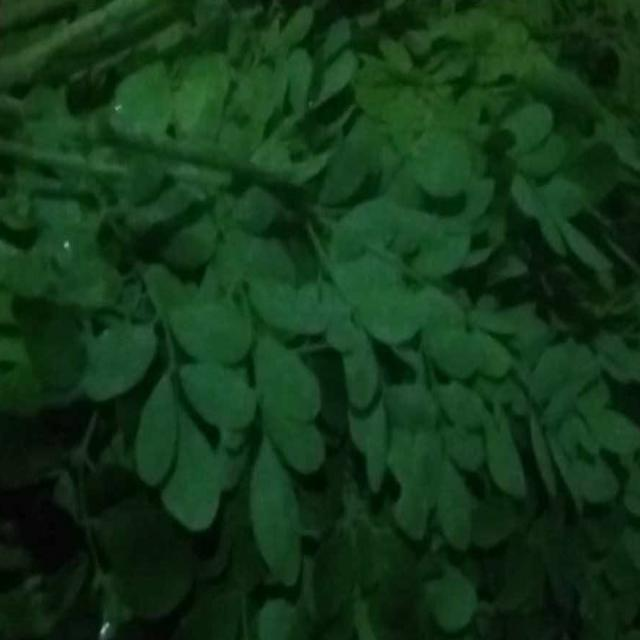Moringa Leaves: (64, 95, 572, 601)
